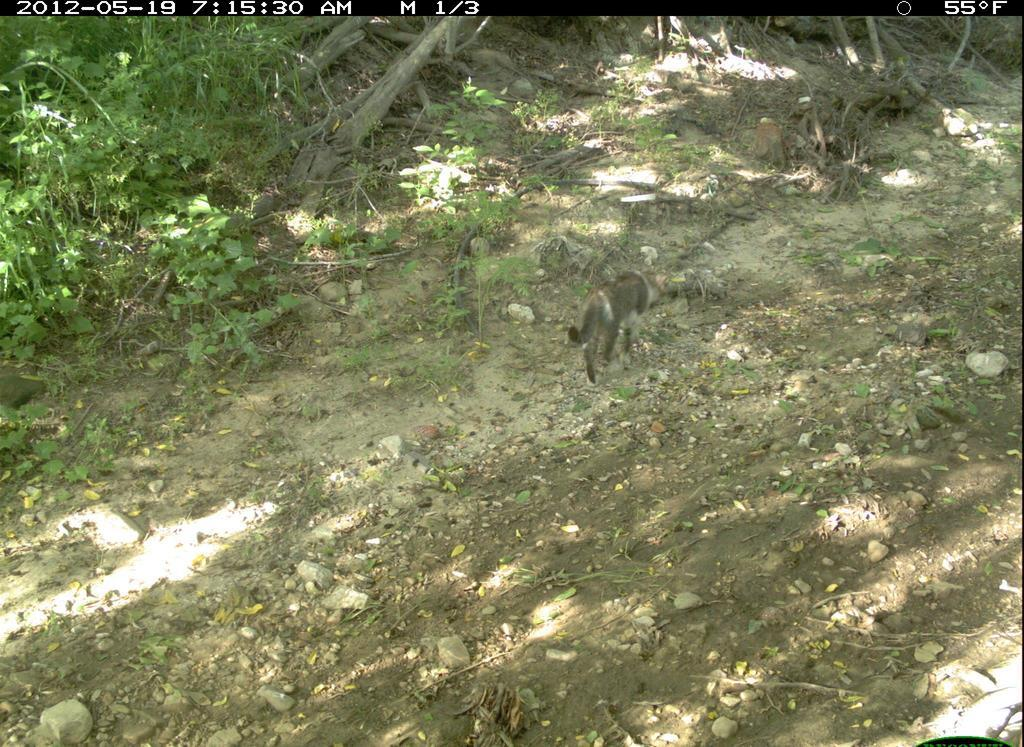cat: (551, 251, 688, 397)
